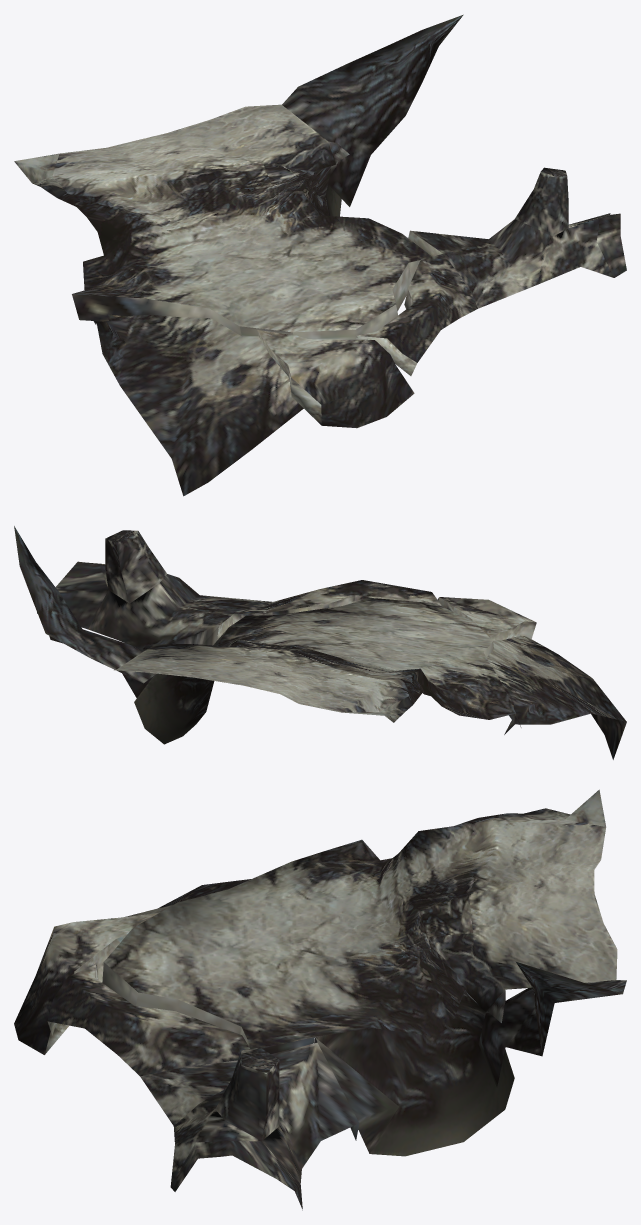
File: S_Build_Desert130_1.FBX
3 views of the same model, one above another, from view 1: azimuth 30°, elevation 25°; view 2: azimuth 150°, elevation 25°; view 3: azimuth 270°, elevation 25° (orthographic). The views are drawn at different scales.
Visible parts, largest first — view 1: S_Build_Desert130_1; view 2: S_Build_Desert130_1; view 3: S_Build_Desert130_1.
Part boxes in pixels (x1,y1,x2,y2): S_Build_Desert130_1: (14,14,626,496); S_Build_Desert130_1: (14,526,626,759); S_Build_Desert130_1: (14,789,626,1210).
Bounding box in the file's own units: 991 × 453 × 780.
1 material, 1 textured.
